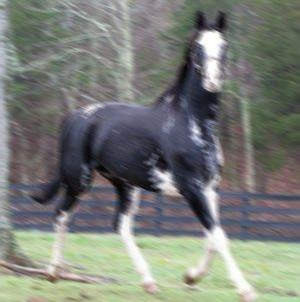horse: (26, 9, 258, 301)
